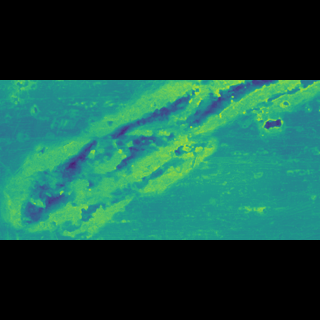Loch: (4, 120, 318, 200)
